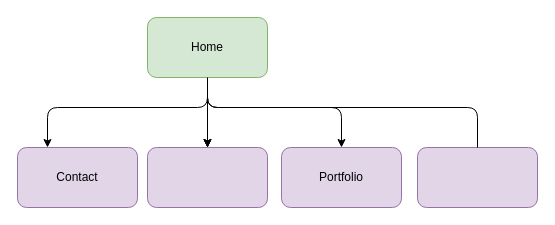
This 555x225 diagram has some shape labels left out. The shapes that lost their labels are listed below. From the top down, each one's centre as x and y in pixels, then its label:
At [207,177]: "Skills".
At [477,177]: "Work History".
